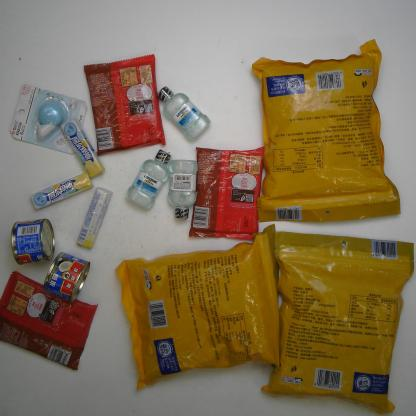Candy: (59, 118, 104, 178), (30, 173, 94, 212), (76, 187, 112, 250)
Canned Food: (39, 250, 93, 304), (9, 216, 52, 266)
Dessert: (0, 270, 98, 374), (82, 53, 169, 155), (186, 145, 271, 242)
Dried Food: (113, 223, 281, 392), (260, 228, 414, 412), (252, 37, 402, 224)
Personal Hygiene: (125, 148, 173, 210), (157, 85, 211, 139), (167, 157, 198, 218)
Stationery: (9, 83, 87, 153)
